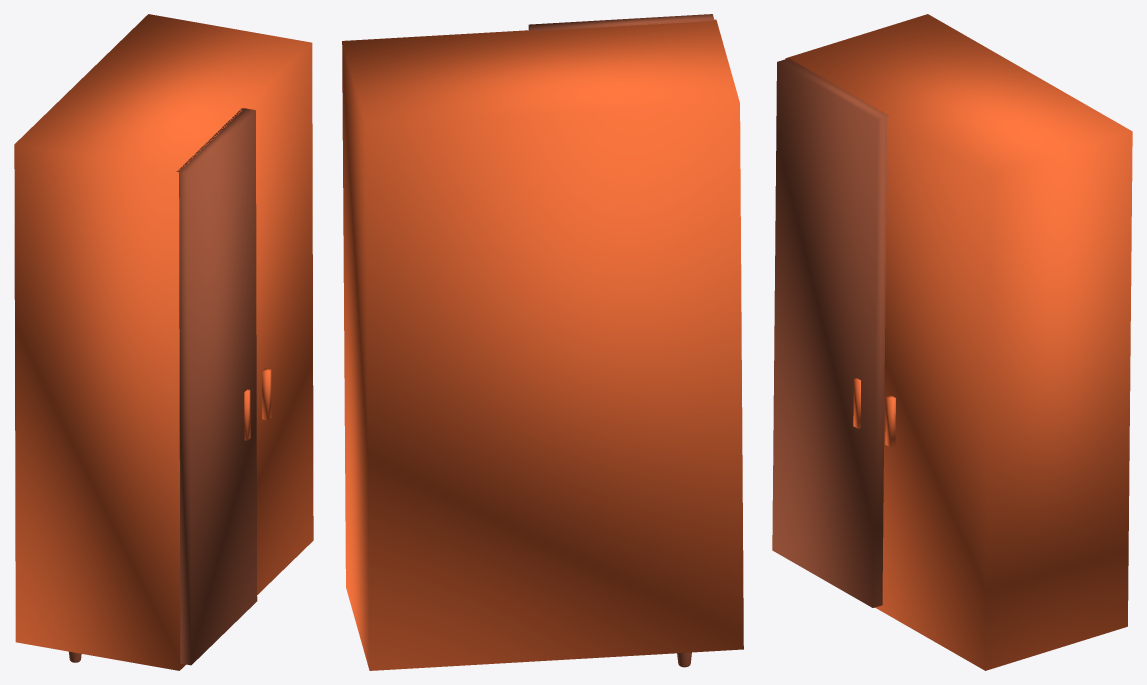
File: closet.glb
3 renders of one model, left to right at view 1: azimuth 30°, elevation 25°; view 2: azimuth 150°, elevation 25°; view 3: azimuth 270°, elevation 25°, orthographic. The views are drawn at different scales.
Parts seen in each view (by area): view 1: Cube.752, Cube.753, Cube.754; view 2: Cube.752, Cube.753; view 3: Cube.752, Cube.753, Cube.754.
Boxes of the visible parts, box(x1,y1,x2,y2) form: Cube.752: box(14, 14, 313, 670); Cube.753: box(176, 108, 257, 665); Cube.754: box(244, 368, 271, 440); Cube.752: box(342, 19, 743, 670); Cube.753: box(528, 14, 714, 31); Cube.752: box(785, 14, 1132, 670); Cube.753: box(772, 58, 888, 607); Cube.754: box(853, 378, 895, 447).
Bounding box in the file's own units: 0.5785 × 0.8832 × 0.5471.
